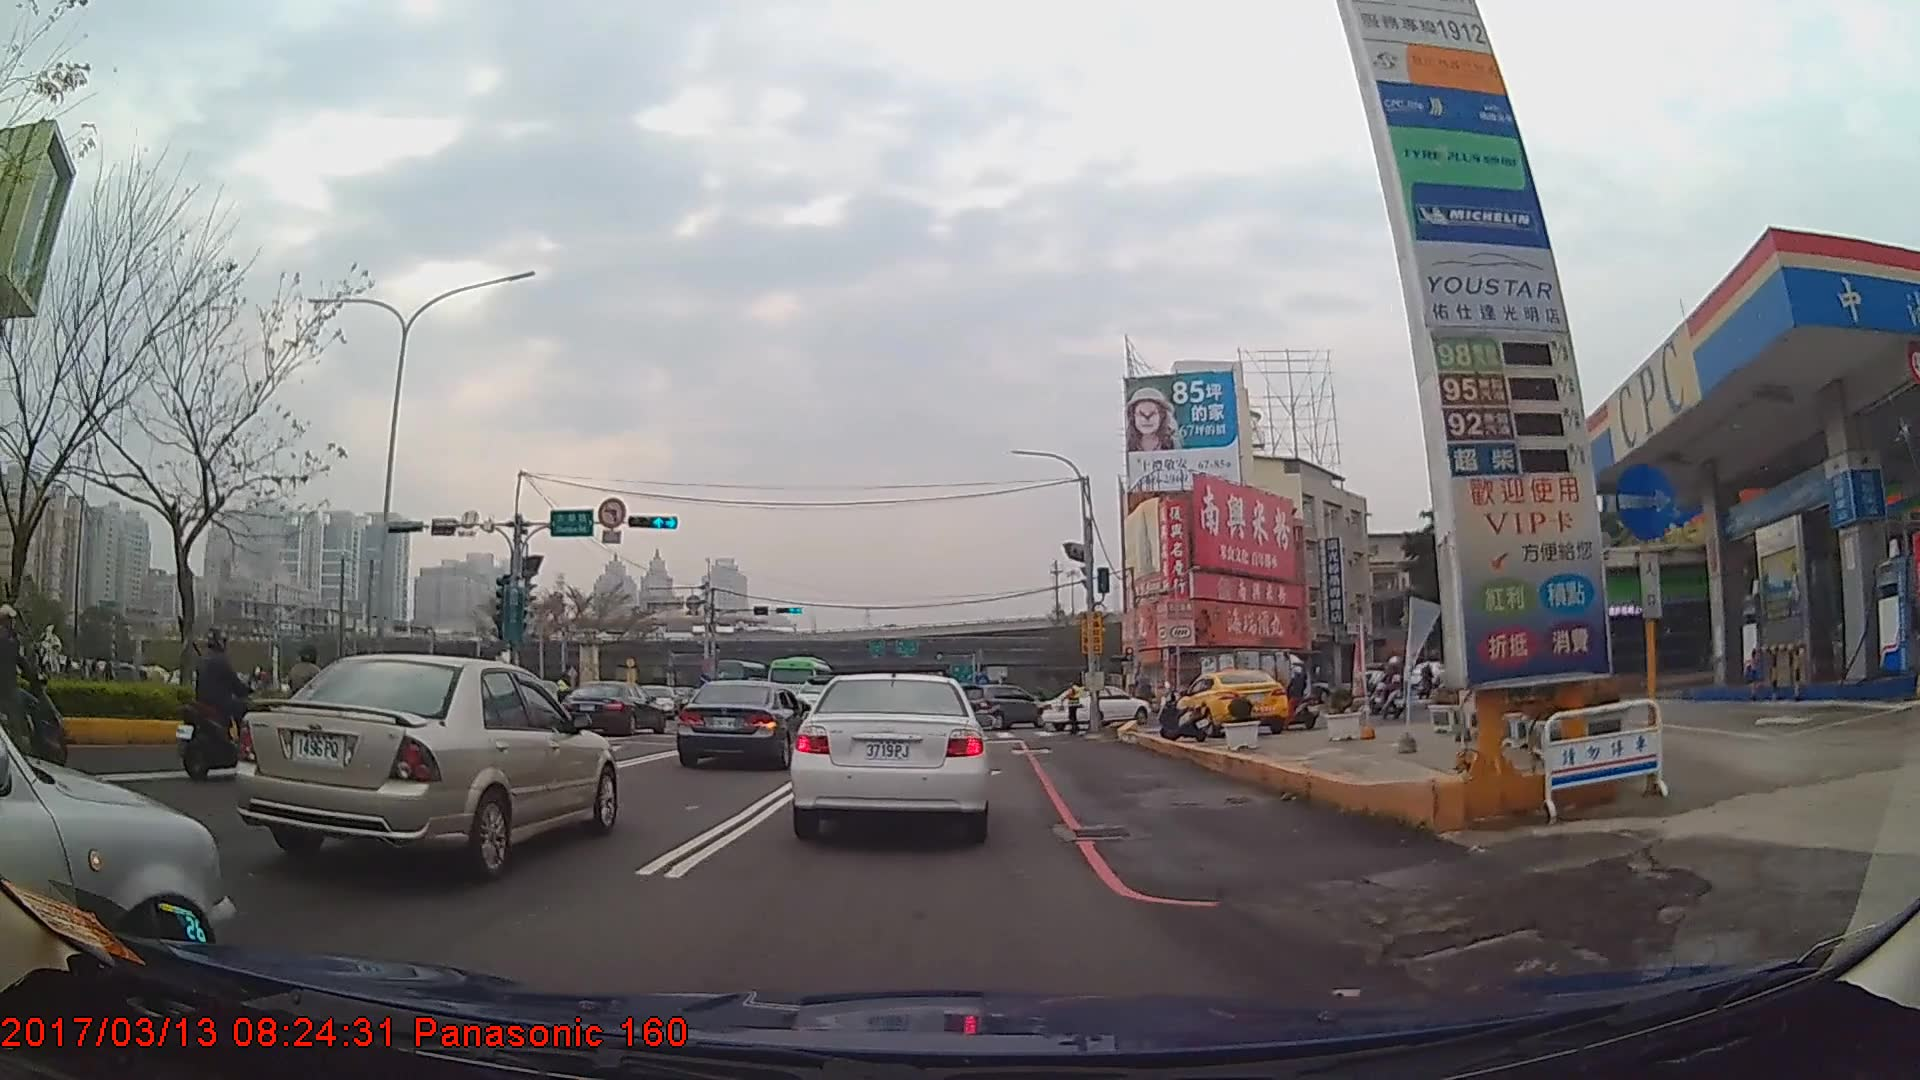pedestrian: (1059, 678, 1080, 735)
rider: (175, 627, 272, 781), (2, 604, 71, 778), (289, 644, 360, 762), (1281, 666, 1319, 730), (1374, 657, 1406, 721), (1368, 664, 1389, 716)
vehicle: (232, 651, 618, 882), (791, 666, 991, 841), (677, 679, 812, 769), (1196, 648, 1313, 716), (1175, 667, 1292, 734), (561, 680, 667, 734), (1044, 681, 1152, 729), (958, 682, 1048, 728), (765, 654, 836, 711)
